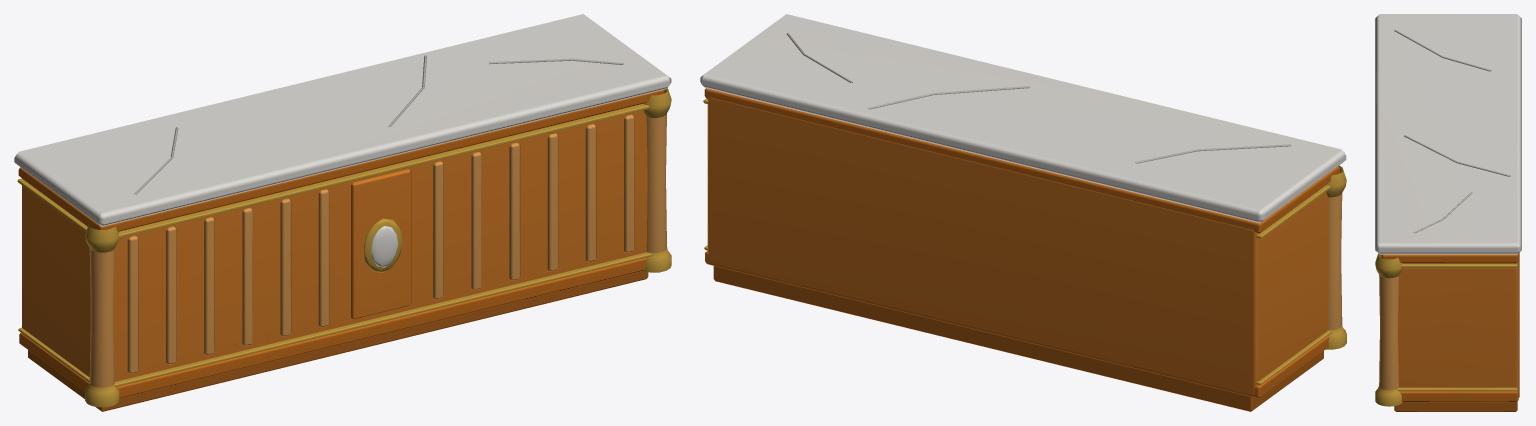
Rendered from furn_counter_boutique.glb.
3 renders of one model, left to right at view 1: azimuth 30°, elevation 25°; view 2: azimuth 150°, elevation 25°; view 3: azimuth 270°, elevation 25°, orthographic. The views are drawn at different scales.
Parts seen in each view (by area): view 1: furn_counter_boutique_main; view 2: furn_counter_boutique_main; view 3: furn_counter_boutique_main.
Part boxes in pixels (x1,y1,x2,y2): furn_counter_boutique_main: [14, 14, 671, 411]; furn_counter_boutique_main: [700, 14, 1346, 411]; furn_counter_boutique_main: [1375, 14, 1521, 411].
Bounding box in the file's own units: 2.91 × 1.01 × 0.767.
